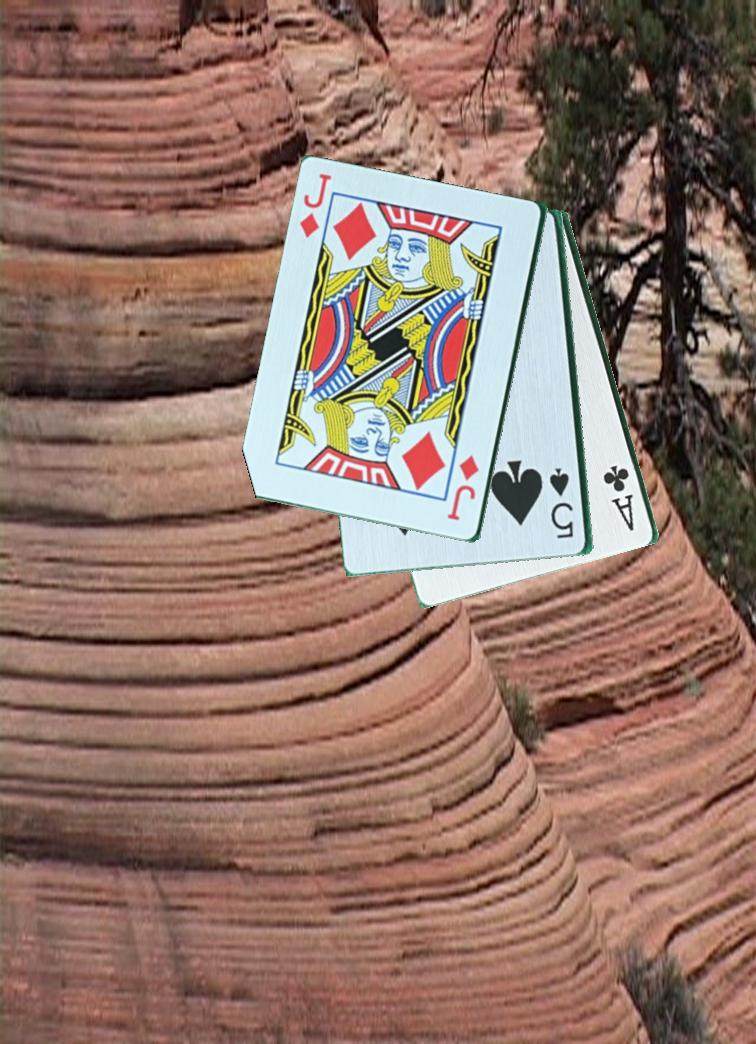5s: (549, 465, 578, 549)
ac: (602, 461, 638, 535)
jd: (296, 170, 335, 242), (445, 452, 483, 525)
